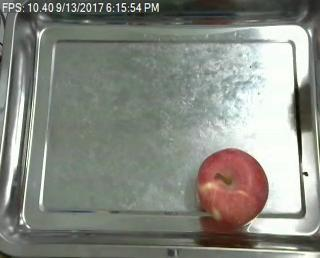apple: (196, 147, 271, 228)
